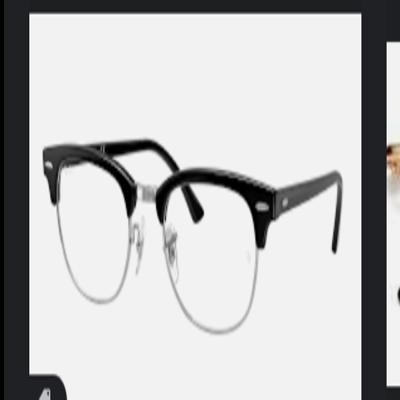glasses: (42, 137, 345, 337)
